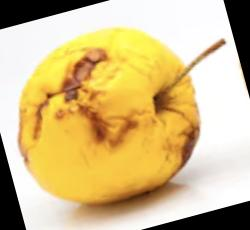Apple: (15, 28, 203, 208)
